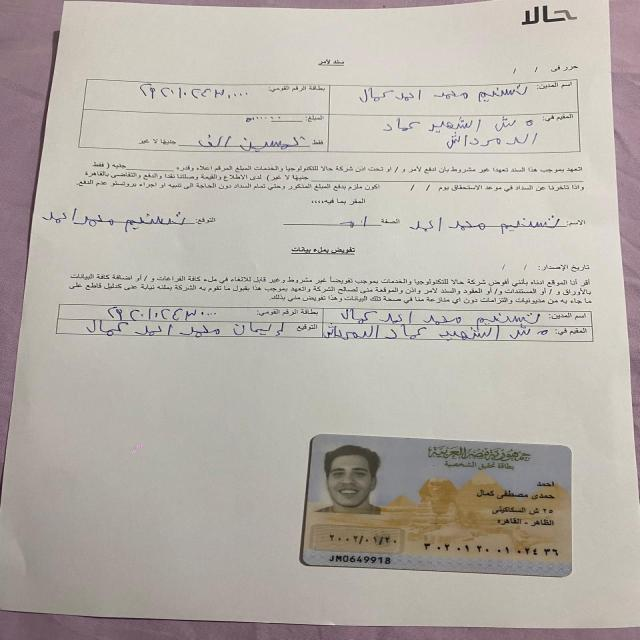id_card: (287, 431, 583, 587)
